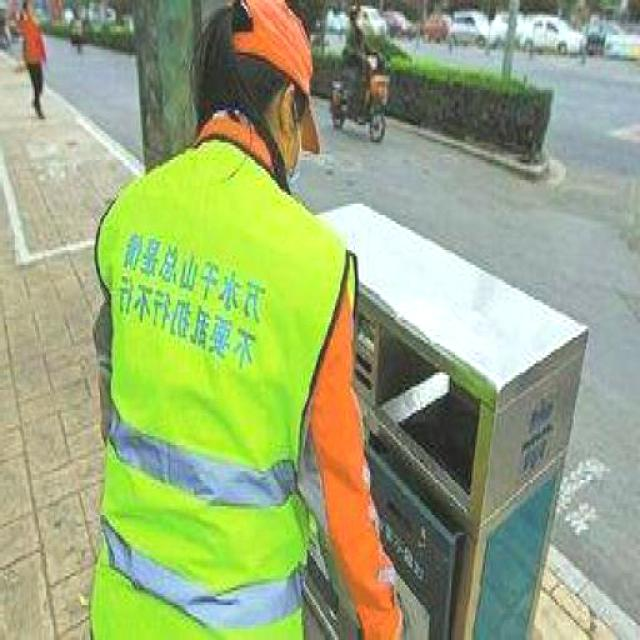head_nohelmet: (203, 0, 323, 166)
vest: (96, 142, 358, 638)
